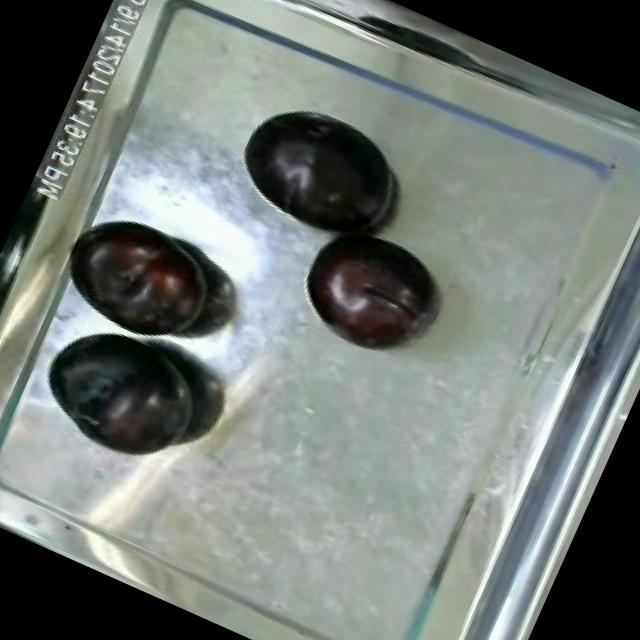Fruit: (23, 300, 223, 480), (217, 84, 419, 262), (53, 199, 233, 358), (281, 208, 454, 373)
